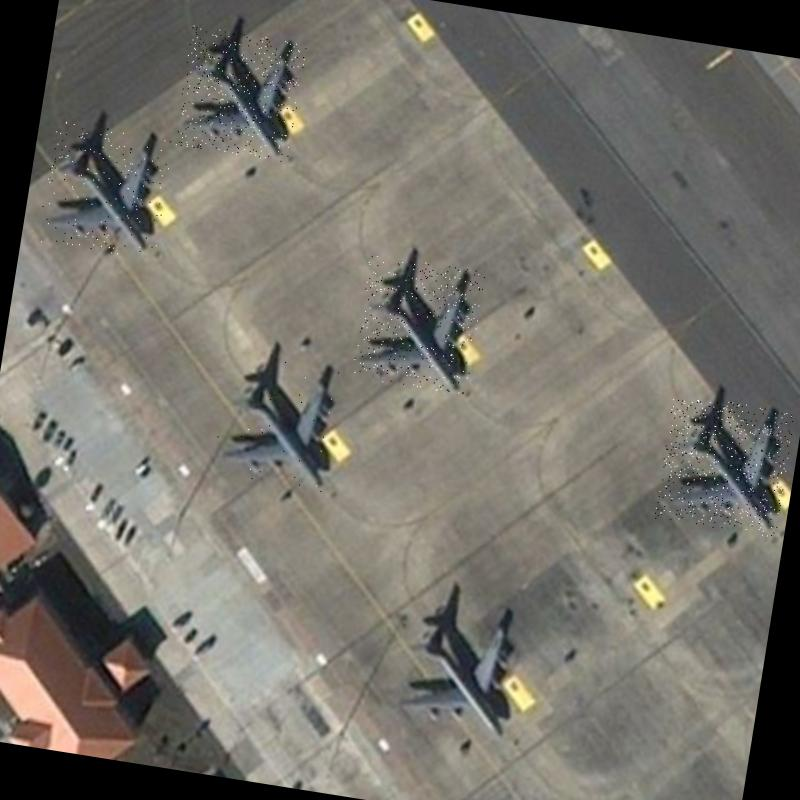A14: (390, 599, 532, 746), (654, 392, 795, 538), (211, 350, 347, 494), (36, 120, 174, 260), (350, 254, 485, 396), (173, 25, 307, 162)
